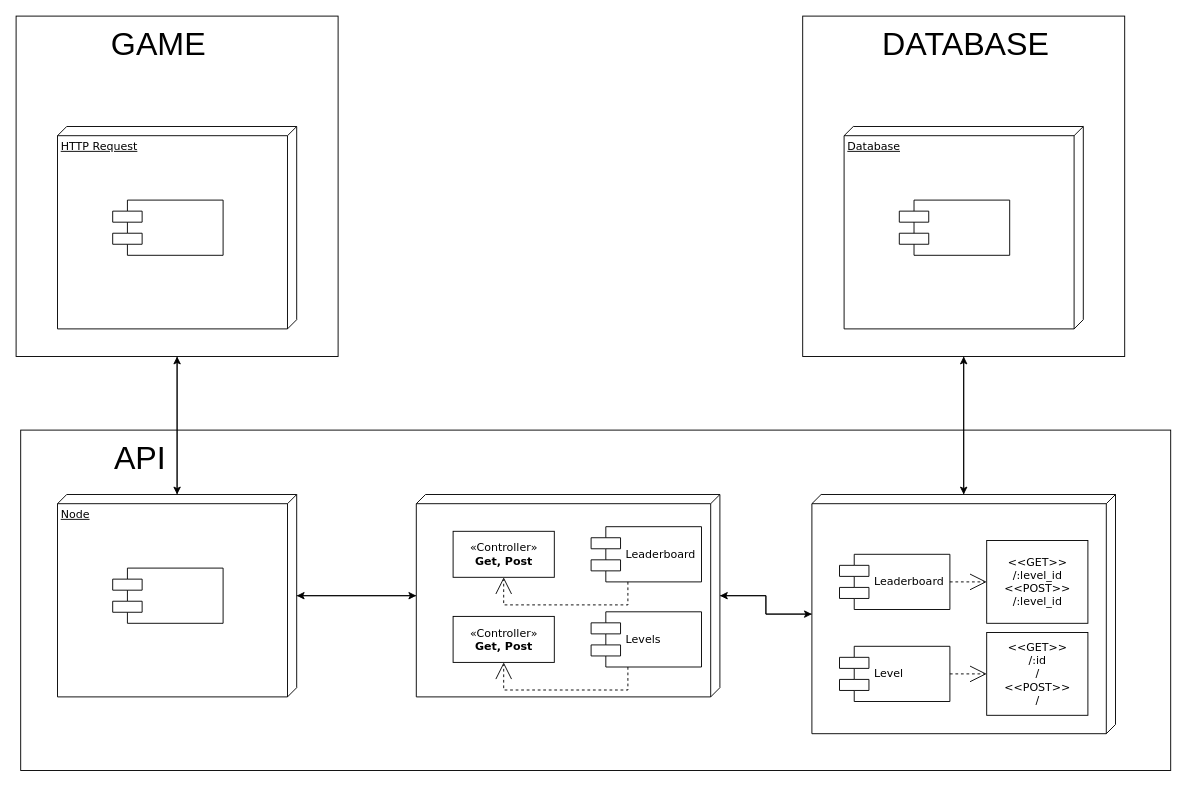
Some shapes in this 1187 by 787 pixel diagram are drawn without their labels. Here are the shapes that lost their labels. From the top down, the box of each, then its label:
(112, 199, 223, 255): Request
(898, 199, 1010, 255): Mongo
(112, 567, 223, 623): Receiver
(415, 494, 720, 697): Routes
(811, 494, 1116, 734): Controller
